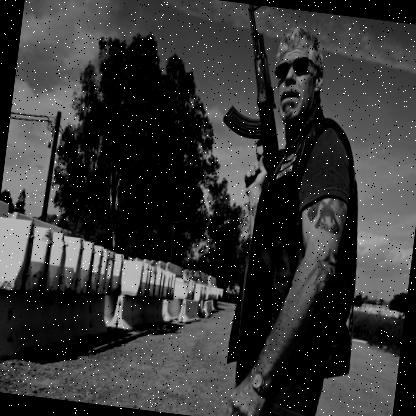rifle: (212, 2, 307, 204)
